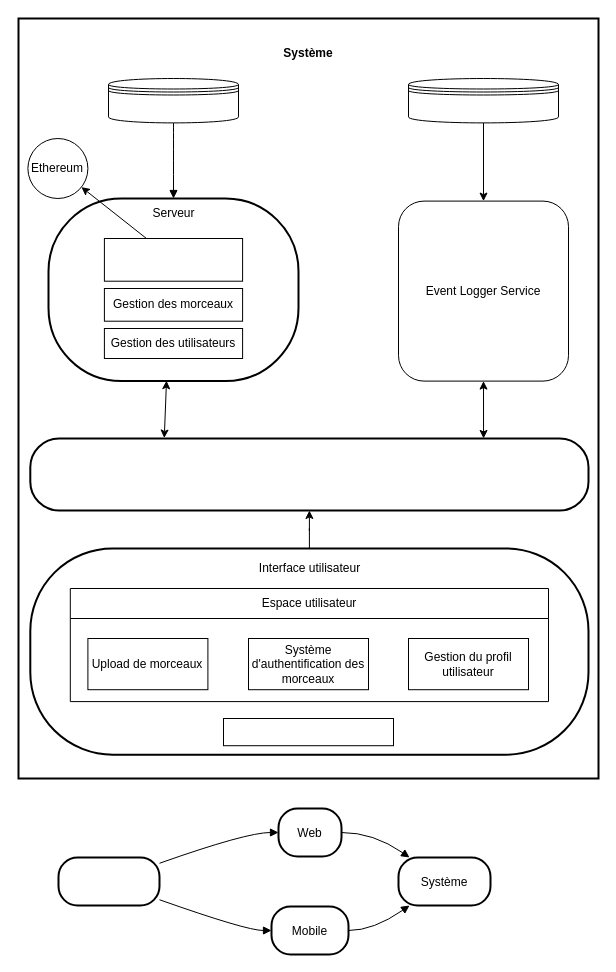
Some shapes in this 616 by 972 pixel diagram are drawn without their labels. The centre of each missing label's shape, as x and y in pixels:
API Gateway: pixel 309 474
Base de données NoSQL: pixel 483 100
Base de données SQL: pixel 173 100
Connexion/Inscription: pixel 308 732
Lien BlockChain (Nethereum): pixel 173 259
Utilisateur: pixel 108 881
